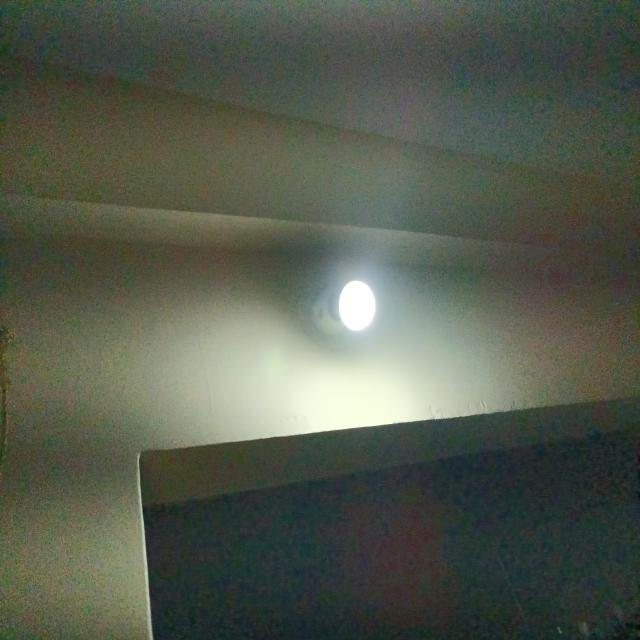bulb_on: (336, 278, 377, 333)
